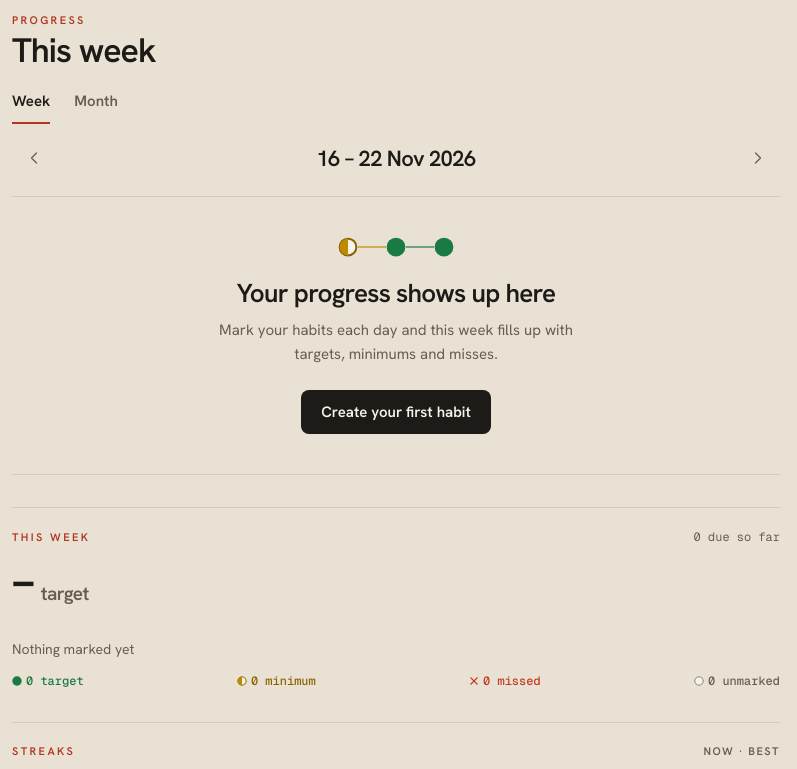
Test: ProgressPage › starts on the week and switches to the month
The width and height of the screenshot is (797, 769).
Check: the heading "16 – 22 Nov 2026" is shown, box [316, 144, 476, 173]
Click the button "Month". click: (96, 102)
box: [74, 80, 118, 124]
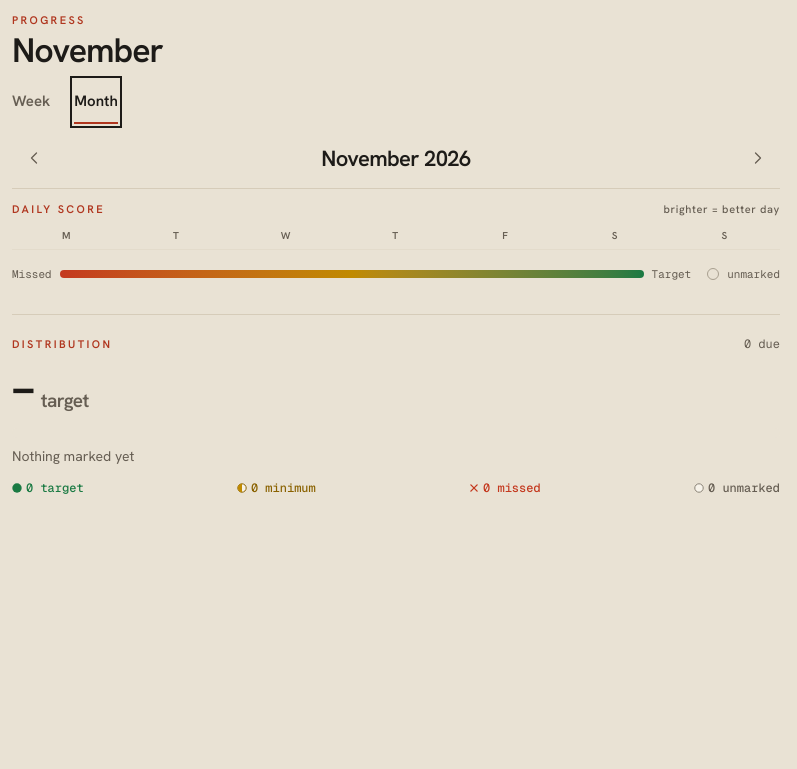
Check: the heading "November 2026" is shown, box [321, 144, 471, 173]
